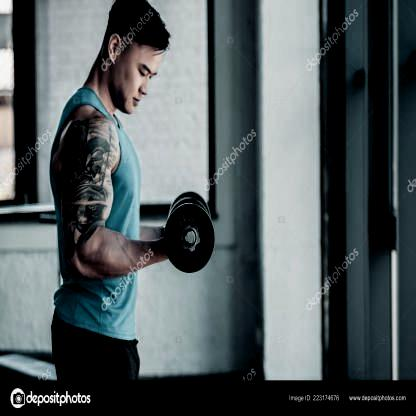Barbell: (184, 224, 199, 249)
